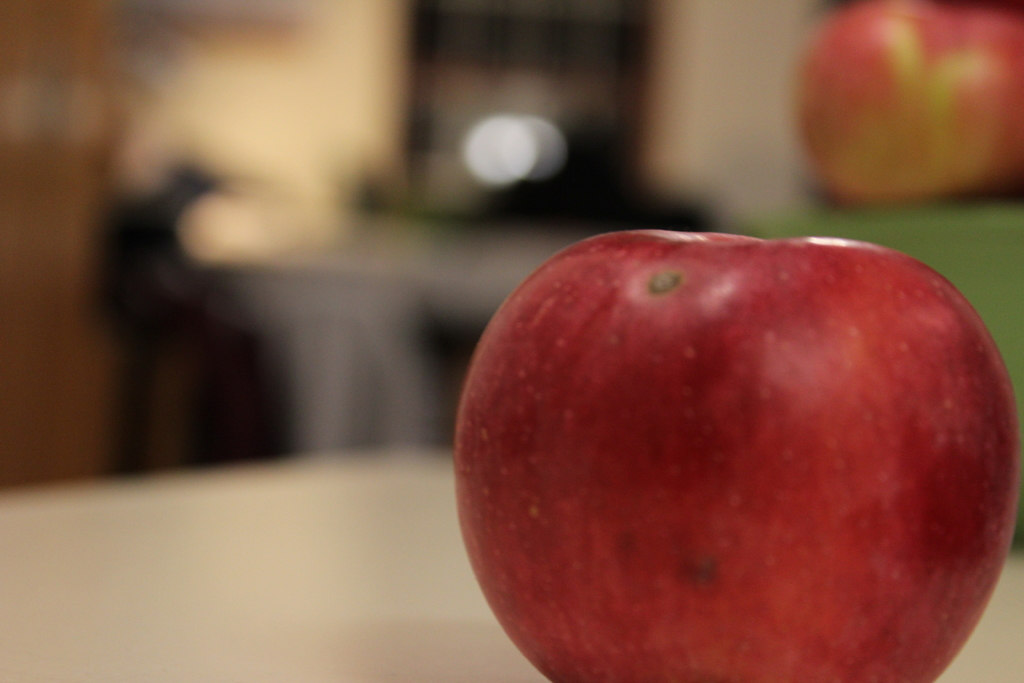Apple: (452, 226, 1020, 682), (795, 0, 1023, 205)
